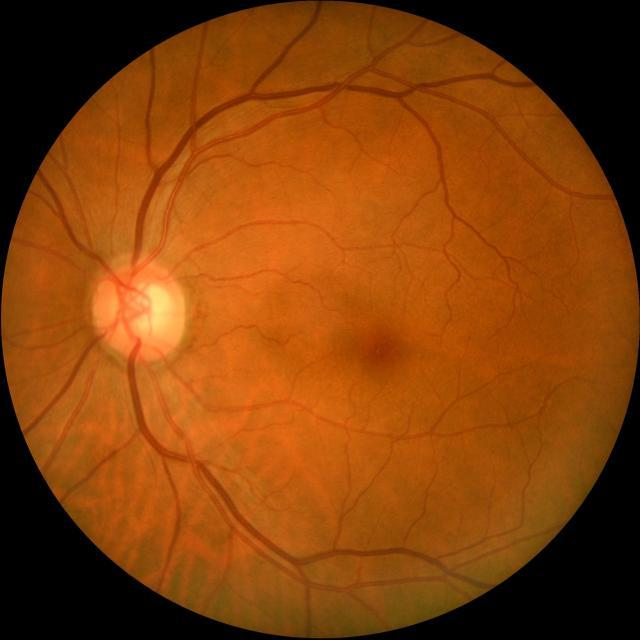OC: (121, 278, 170, 338)
OD: (91, 257, 187, 361)
